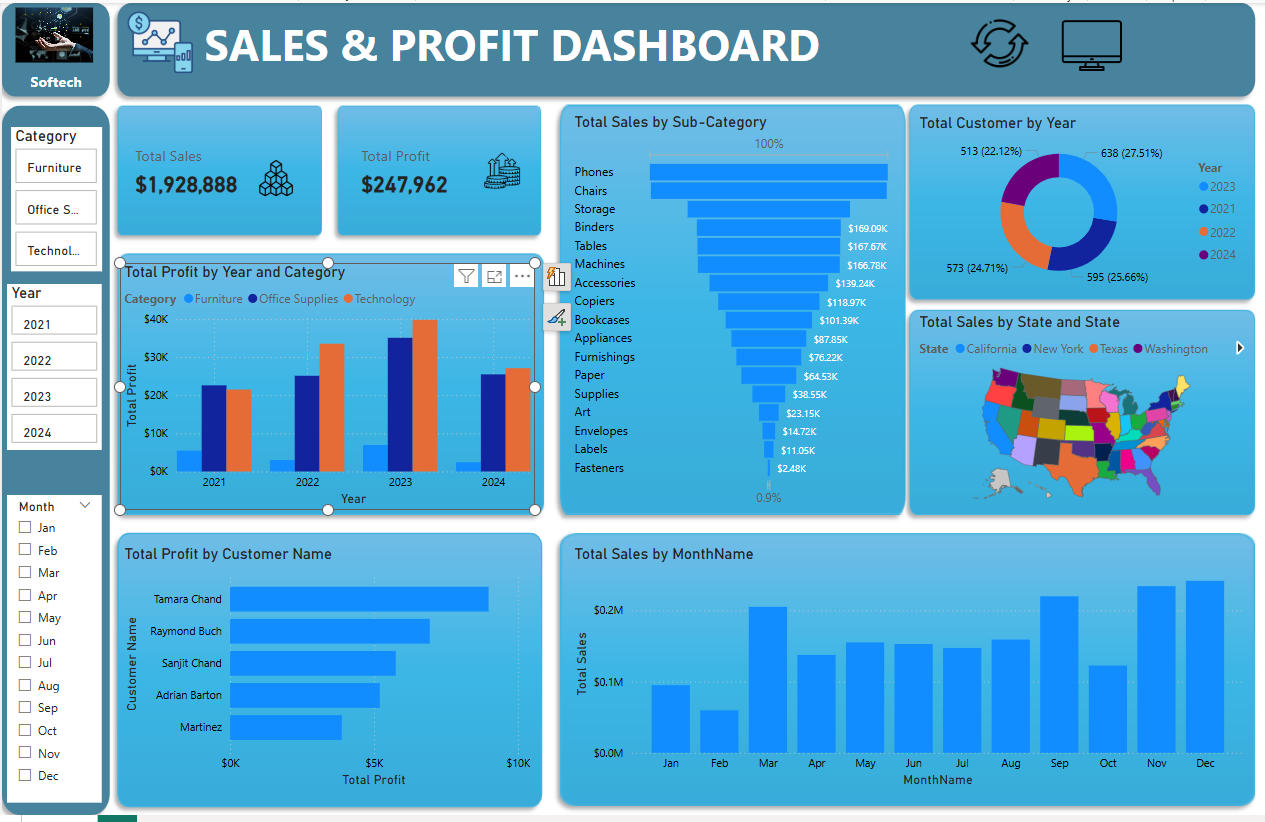

Layout of this report page (visuals, bound fields, positions):
{"tool":"powerbi","page":{"name":"Page 1","canvas":[1400,900],"ordinal":0},"visuals":[{"type":"image","box":[10,0,95.6,71.1],"z":0},{"type":"textbox","box":[14.4,71.1,91.1,31.1],"z":1000},{"type":"funnel","fields":{"Y":["_measures.Total Sales"],"Category":["Data.Sub-Category"]},"box":[630,122.2,362.2,440],"z":2000},{"type":"donutChart","fields":{"Category":["tblDate.Year"],"Y":["_measures.Total Customer"]},"box":[1012.2,123.3,370,198.9],"z":3000},{"type":"shapeMap","fields":{"Category":["Data.State"],"Value":["_measures.Total Sales"],"Series":["Data.State"]},"box":[1012.2,343.3,370,218.9],"z":4000},{"type":"clusteredColumnChart","fields":{"Category":["tblDate.Year"],"Y":["_measures.Total Profit"],"Series":["Data.Category"]},"box":[131.1,287.8,460,274.4],"z":5000},{"type":"clusteredBarChart","fields":{"Category":["Data.Customer Name"],"Y":["_measures.Total Profit"]},"box":[131.1,601.1,460,273.3],"z":6000},{"type":"clusteredColumnChart","fields":{"Category":["tblDate.MonthName"],"Y":["_measures.Total Sales"]},"box":[630,601.1,752.2,273.3],"z":7000},{"type":"advancedSlicerVisual","fields":{"Values":["Data.Category"]},"box":[10,137.4,100.9,159.6],"z":8000},{"type":"advancedSlicerVisual","fields":{"Values":["tblDate.Year"]},"box":[5.5,311.5,105.3,184],"z":9000},{"type":"textbox","box":[220,7.8,693.3,94.4],"z":11000},{"type":"cardVisual","fields":{"Data":["_measures.Total Sales"]},"box":[131.1,123.3,210,126.7],"z":12000},{"type":"image","box":[132.2,0,87.8,86.7],"z":13000},{"type":"image","box":[1052.2,7.8,107.8,74.4],"z":14000},{"type":"image","box":[1160,7.8,95.6,78.9],"z":15000},{"type":"cardVisual","fields":{"Data":["_measures.Total Profit"]},"box":[381.1,123.3,210,126.7],"z":16000},{"type":"slicer","fields":{"Values":["tblDate.MonthName"]},"box":[5.5,545.3,105.3,341.4],"z":16001}]}

Visuals, with their boxes in screenshot pixels (x1, y1, x2, y2):
image: <region>3, 0, 91, 62</region>
textbox: <region>7, 62, 91, 91</region>
funnel - _measures.Total Sales x Data.Sub-Category: <region>575, 110, 910, 516</region>
donutChart - tblDate.Year x _measures.Total Customer: <region>929, 111, 1264, 294</region>
shapeMap - Data.State x _measures.Total Sales: <region>929, 314, 1264, 516</region>
clusteredColumnChart - tblDate.Year x _measures.Total Profit: <region>115, 263, 539, 516</region>
clusteredBarChart - Data.Customer Name x _measures.Total Profit: <region>115, 552, 539, 805</region>
clusteredColumnChart - tblDate.MonthName x _measures.Total Sales: <region>575, 552, 1264, 805</region>
advancedSlicerVisual - Data.Category: <region>3, 124, 96, 271</region>
advancedSlicerVisual - tblDate.Year: <region>0, 284, 96, 454</region>
textbox: <region>197, 4, 837, 91</region>
cardVisual - _measures.Total Sales: <region>115, 111, 309, 228</region>
image: <region>116, 0, 197, 77</region>
image: <region>965, 4, 1065, 73</region>
image: <region>1065, 4, 1153, 77</region>
cardVisual - _measures.Total Profit: <region>345, 111, 539, 228</region>
slicer - tblDate.MonthName: <region>0, 500, 96, 816</region>
